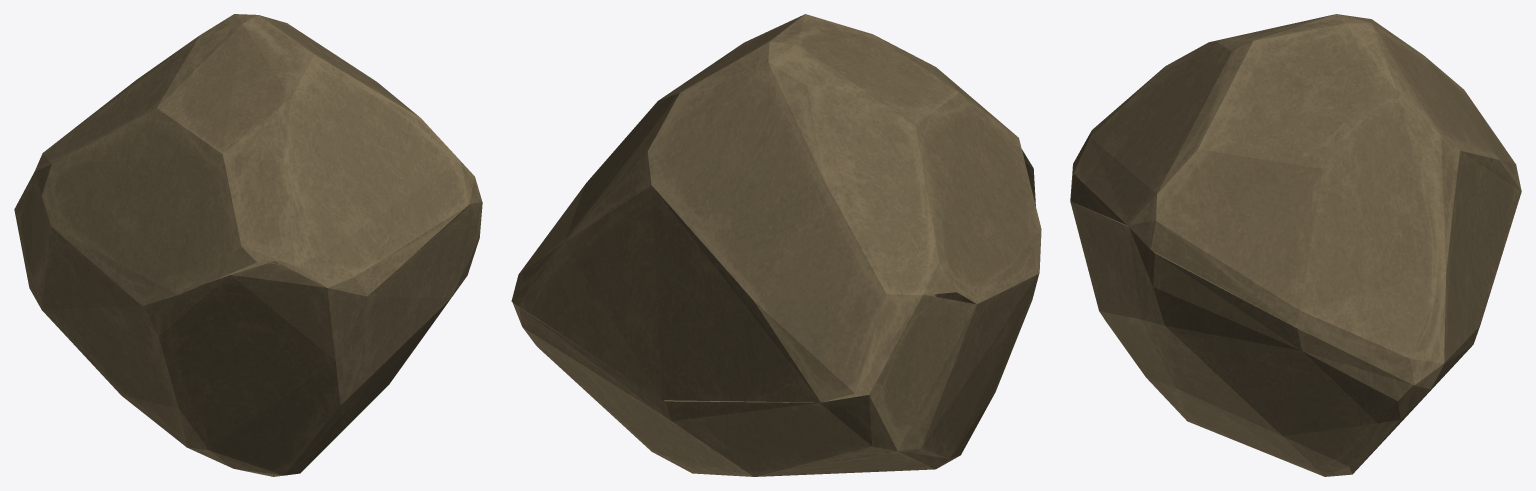
Rendered from ARC0510111.fbx.
3 views of the same model, side by side, from view 1: azimuth 30°, elevation 25°; view 2: azimuth 150°, elevation 25°; view 3: azimuth 270°, elevation 25° (orthographic). The views are drawn at different scales.
Parts seen in each view (by area): view 1: smARC0510111; view 2: smARC0510111; view 3: smARC0510111.
Boxes of the visible parts, <box> form: smARC0510111: <box>14,14,482,476</box>; smARC0510111: <box>511,14,1041,476</box>; smARC0510111: <box>1070,14,1521,476</box>.
Bounding box in the file's own units: 243 × 241 × 233.
1 material, 1 textured.
